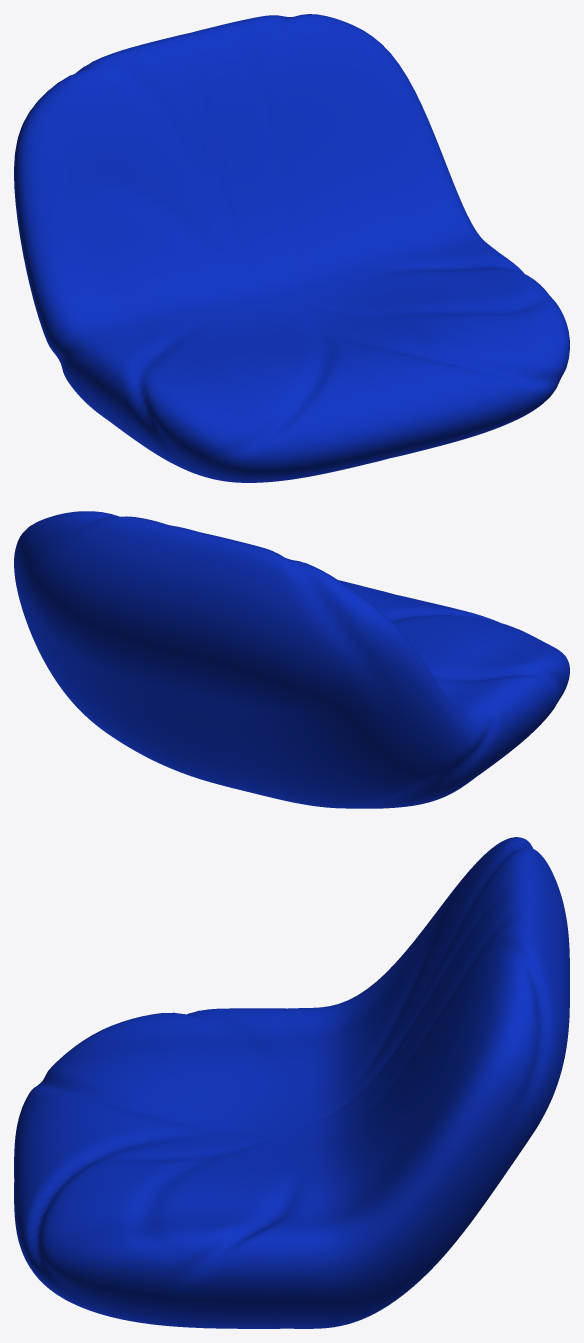
The model's file is beanBag-3.glb.
3 renders of one model, top to bottom at view 1: azimuth 30°, elevation 25°; view 2: azimuth 150°, elevation 25°; view 3: azimuth 270°, elevation 25°, orthographic. The views are drawn at different scales.
Parts seen in each view (by area): view 1: beanBag_3_continuous_cloth; view 2: beanBag_3_continuous_cloth; view 3: beanBag_3_continuous_cloth.
Boxes of the visible parts, x1,y1,x2,y2 form: beanBag_3_continuous_cloth: (14, 14, 569, 482); beanBag_3_continuous_cloth: (14, 511, 569, 808); beanBag_3_continuous_cloth: (14, 837, 569, 1328).
Bounding box in the file's own units: 1.02 × 0.7 × 0.98.
